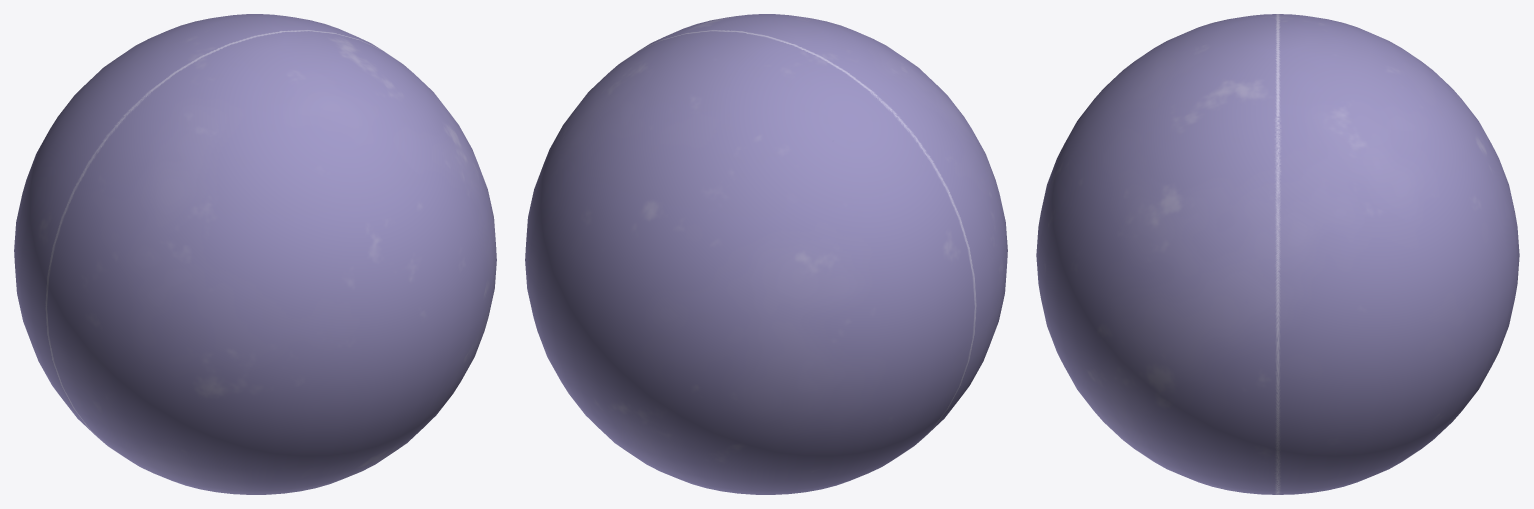
Rendered from GalaxyGooBall.fbx.
3 renders of one model, left to right at view 1: azimuth 30°, elevation 25°; view 2: azimuth 150°, elevation 25°; view 3: azimuth 270°, elevation 25°, orthographic.
Parts seen in each view (by area): view 1: GalaxyGooBall_Body; view 2: GalaxyGooBall_Body; view 3: GalaxyGooBall_Body.
Part boxes in pixels (<box>): GalaxyGooBall_Body: <box>14,14,496,494</box>; GalaxyGooBall_Body: <box>525,14,1007,494</box>; GalaxyGooBall_Body: <box>1036,14,1519,494</box>.
Bounding box in the file's own units: 0.2756 × 0.2681 × 0.2756.
2 materials, 2 textured.
